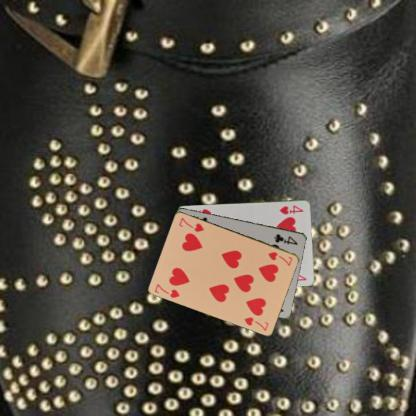4c: (272, 231, 299, 246)
4h: (277, 202, 304, 216)
7h: (152, 281, 182, 299), (266, 249, 293, 267)
